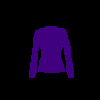maglione: (28, 25, 74, 78)
